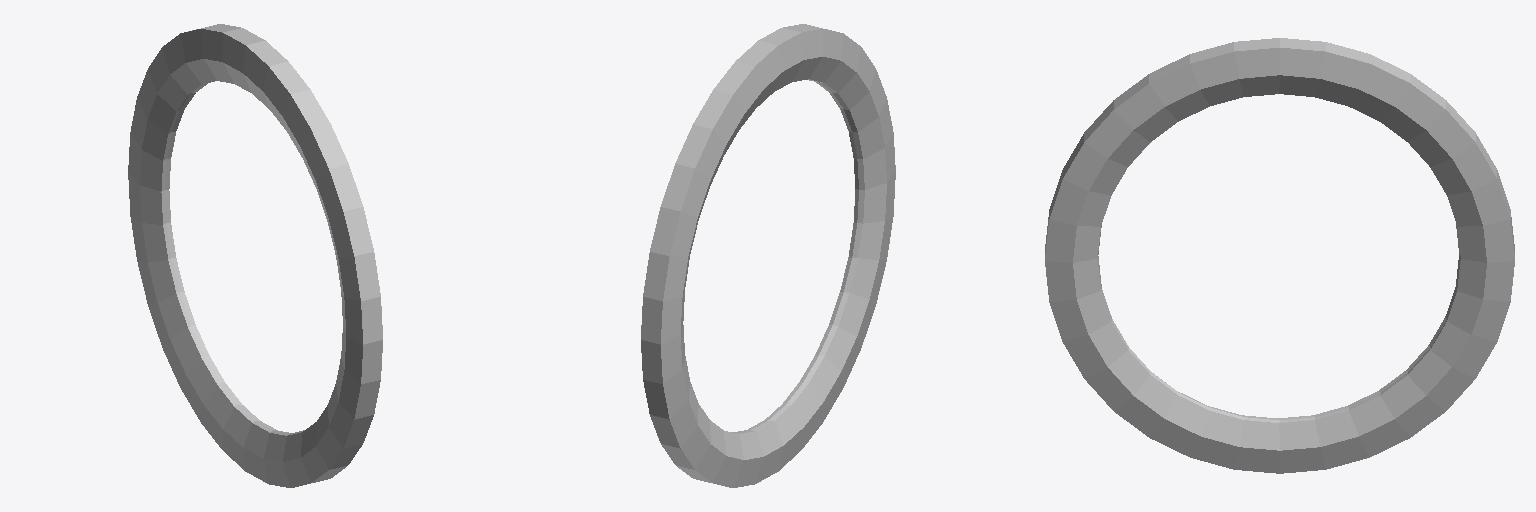
Rendered from gate.obj.
3 renders of one model, left to right at view 1: azimuth 30°, elevation 25°; view 2: azimuth 150°, elevation 25°; view 3: azimuth 270°, elevation 25°, orthographic.
Visible parts, largest first — view 1: Cylinder; view 2: Cylinder; view 3: Cylinder.
Part boxes in pixels (bbox=[...]): Cylinder: bbox=[128, 24, 382, 487]; Cylinder: bbox=[641, 24, 895, 487]; Cylinder: bbox=[1045, 38, 1514, 473].
Size of the model in its own units: 1.25 by 17.75 by 17.75.